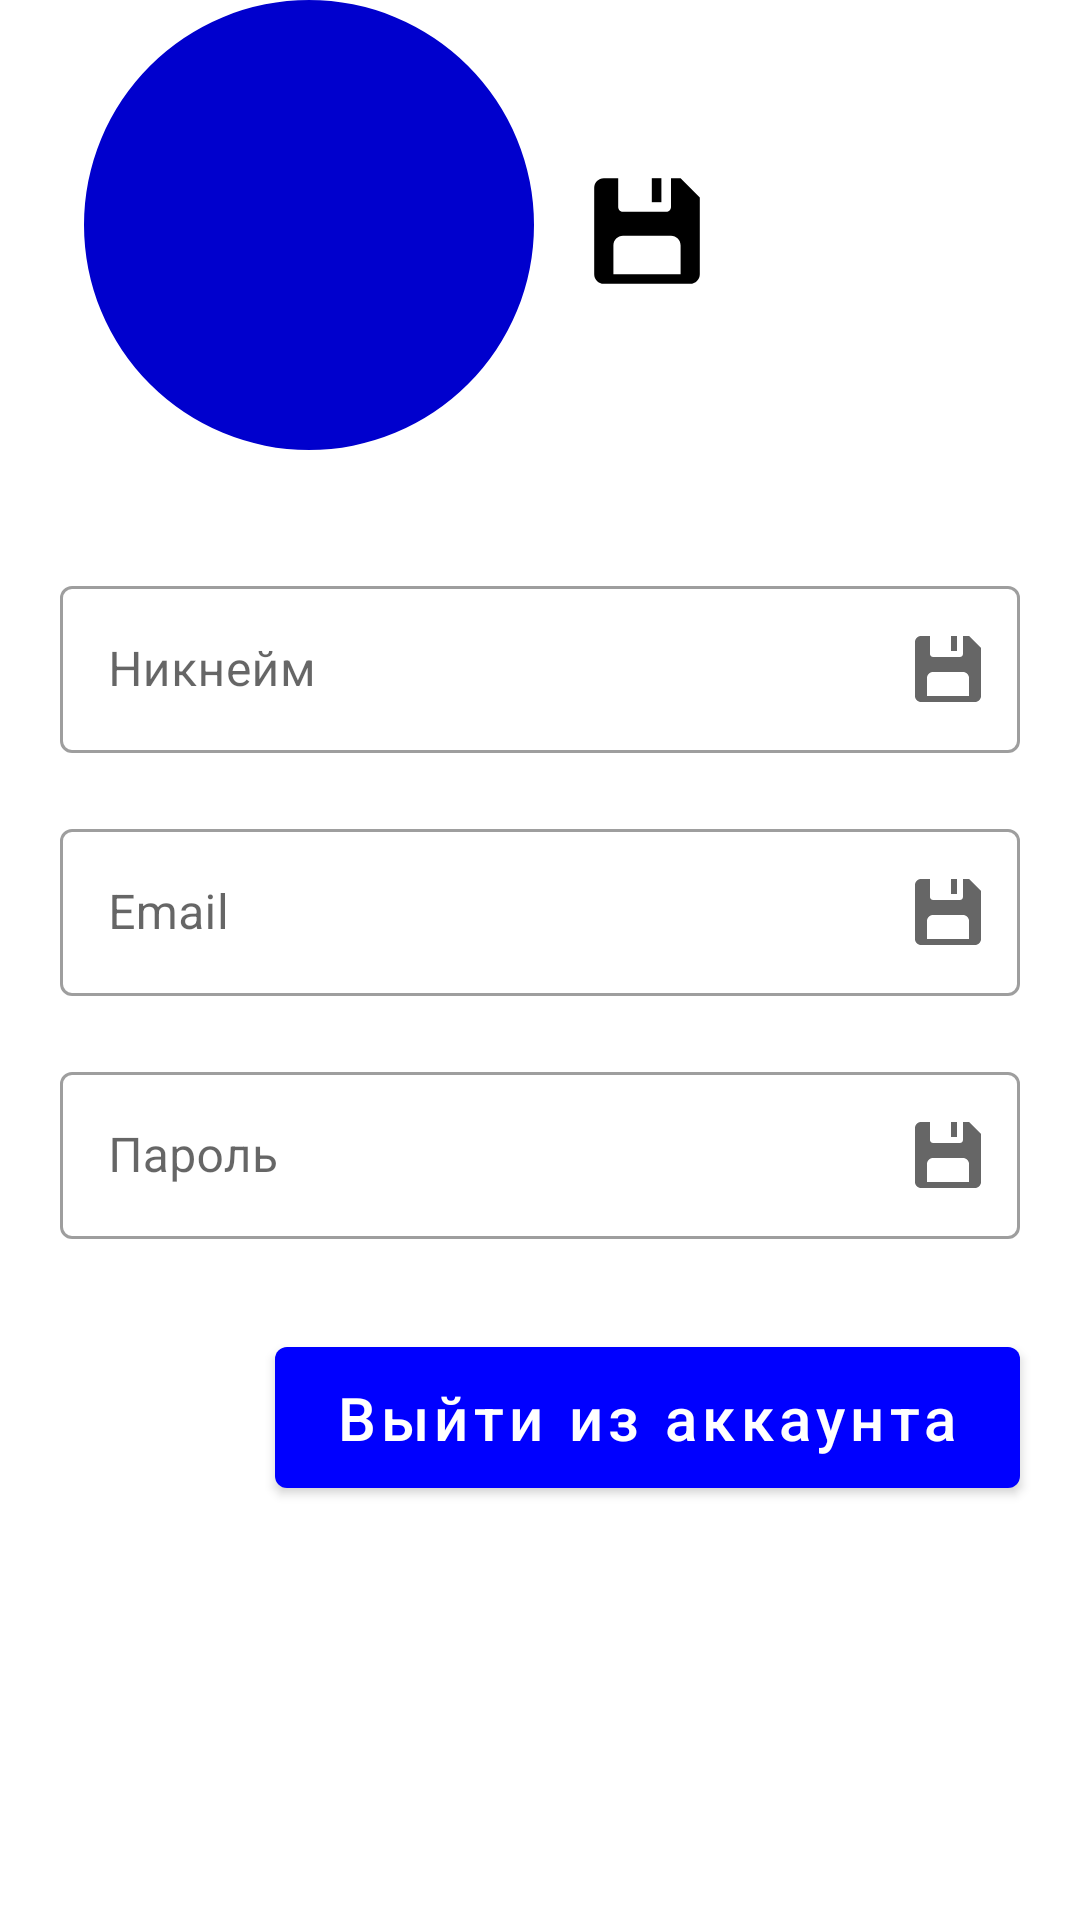

Where icons sit on this 1080w x 1920h app screen, as [x1, y1, x2, y2]:
save rect: [594, 178, 700, 284]
